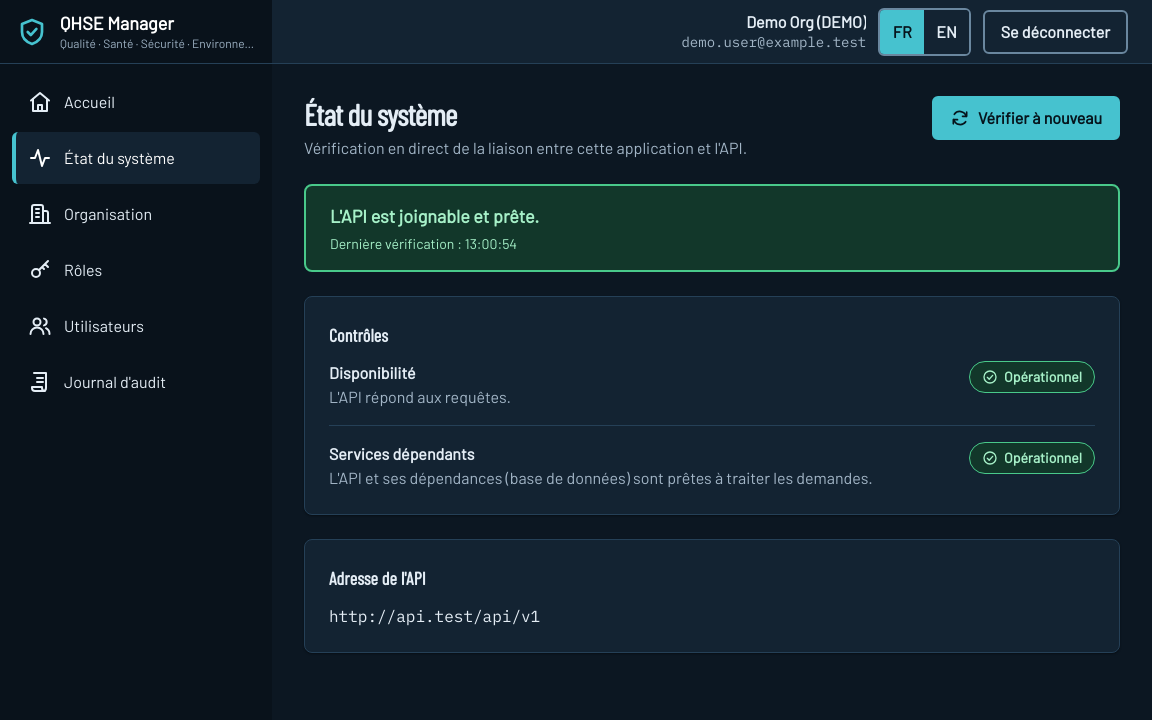
Scenario: language switching › translates pages that load data too
Check: the text "L'API est joignable et prête." is shown, box [330,205,539,227]
Click the button with aria-label "English". click: [947, 32]
box: [924,10,969,54]
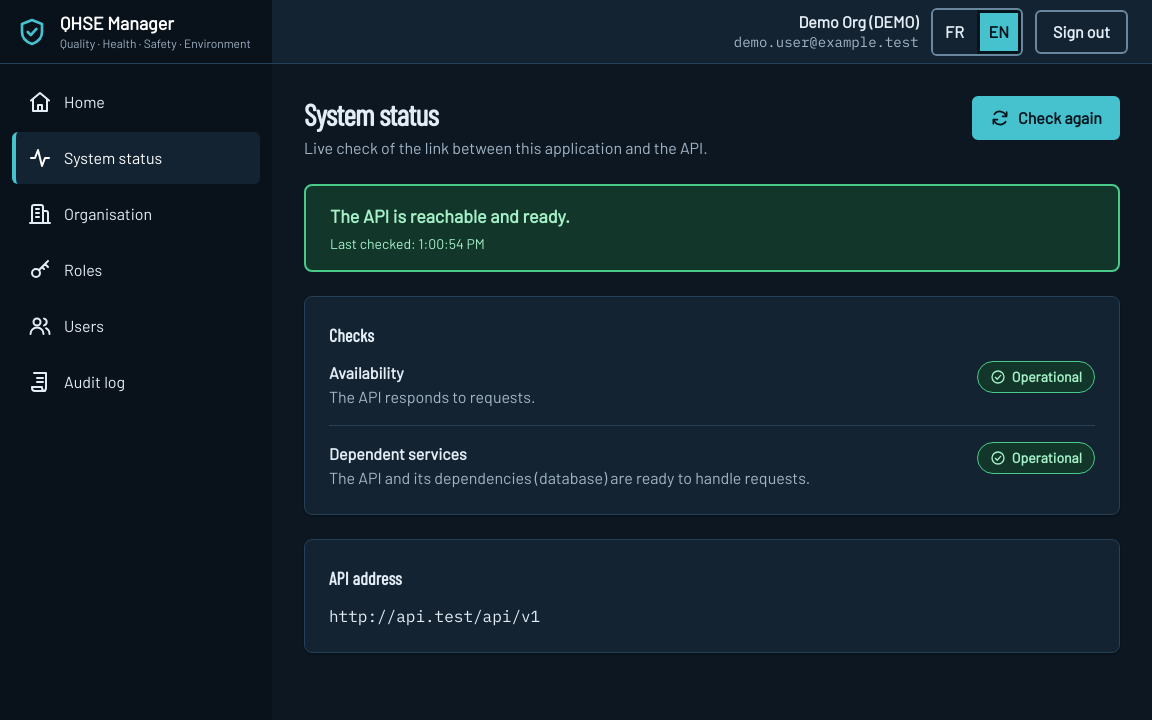
Check: the text "The API is reachable and ready." is shown, box [330,205,570,227]
